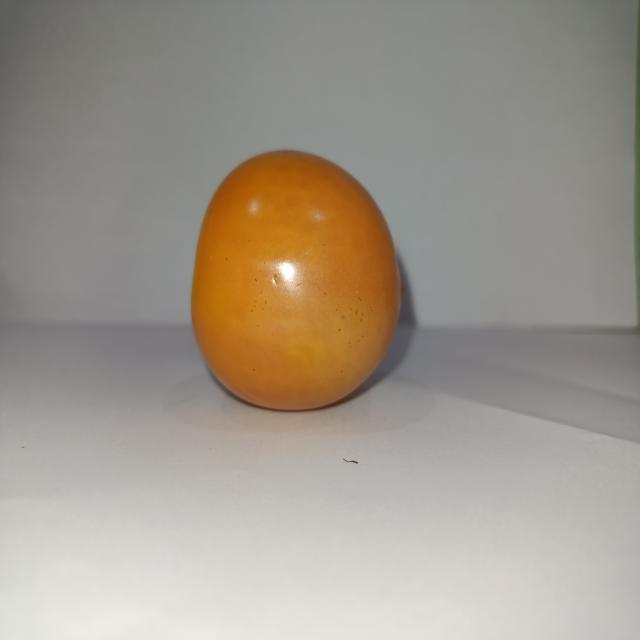Red: (189, 148, 402, 412)
